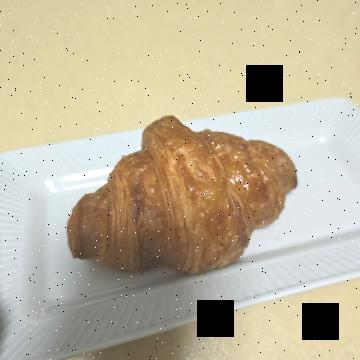croissant: (106, 62, 288, 314)
